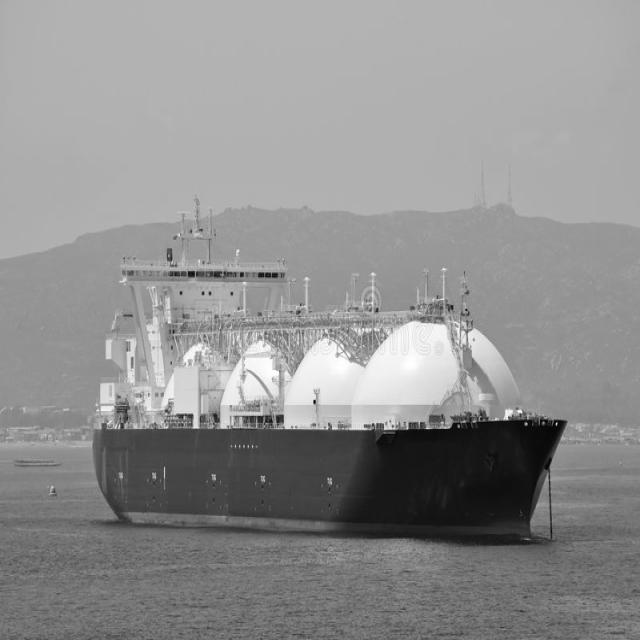LNG: (85, 186, 572, 566)
